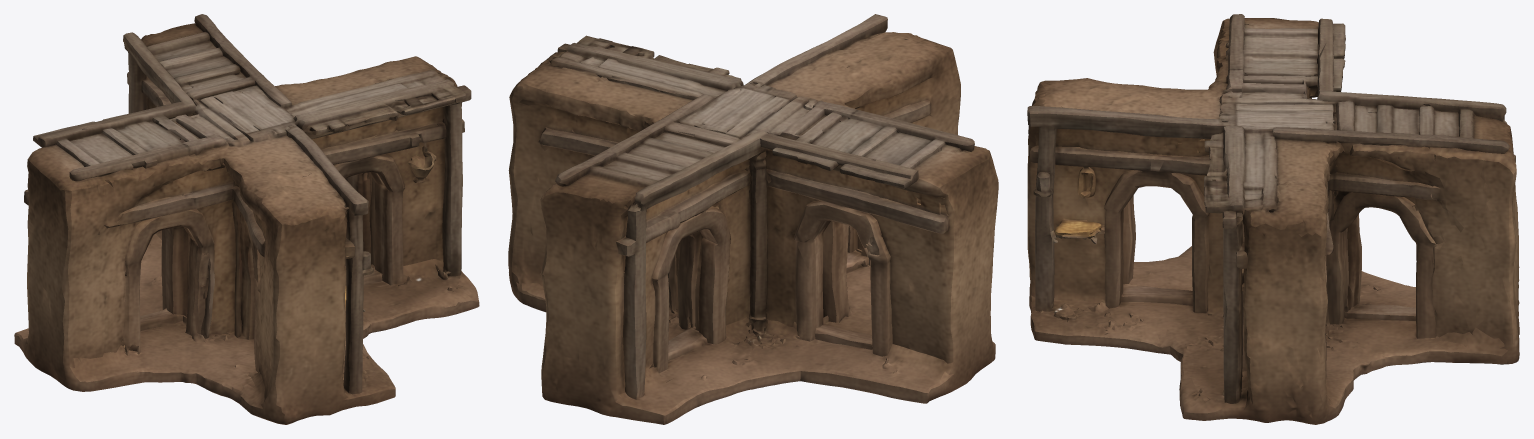
File: tunnel_hub.glb
3 renders of one model, left to right at view 1: azimuth 30°, elevation 25°; view 2: azimuth 150°, elevation 25°; view 3: azimuth 270°, elevation 25°, orthographic. The views are drawn at different scales.
Visible parts, largest first — view 1: world; view 2: world; view 3: world.
Part boxes in pixels (<box>): world: <box>14,14,479,424</box>; world: <box>508,14,998,424</box>; world: <box>1027,14,1519,424</box>.
Bounding box in the file's own units: 0.3 × 0.1456 × 0.3003.
1 material, 1 textured.
